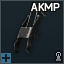AKMP system front sight device: (0, 0, 64, 64)
